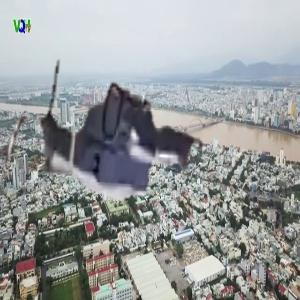drone: (1, 46, 219, 264)
